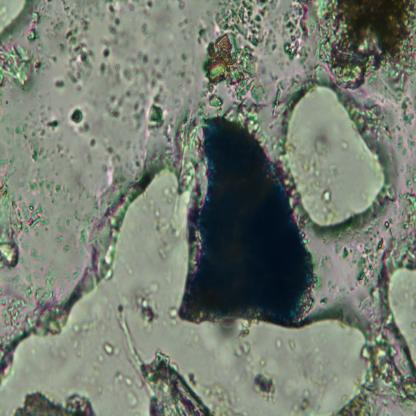Air bubble: (279, 82, 398, 235), (381, 256, 416, 370), (0, 0, 33, 35)
Background material: (176, 0, 289, 113), (315, 0, 416, 85), (359, 290, 407, 406), (0, 109, 65, 189), (119, 55, 176, 138), (140, 351, 211, 416), (0, 284, 63, 348), (55, 0, 100, 87), (0, 180, 38, 278), (92, 0, 129, 77), (14, 384, 99, 416), (343, 91, 391, 147), (393, 159, 416, 270), (284, 0, 318, 70), (355, 217, 392, 281), (2, 38, 44, 94), (117, 301, 148, 372), (304, 135, 335, 206), (198, 377, 246, 416), (151, 211, 188, 257), (56, 200, 88, 245), (284, 379, 321, 416), (70, 309, 100, 354), (96, 144, 135, 175), (63, 100, 93, 137), (136, 283, 158, 331), (250, 371, 282, 403), (233, 321, 258, 361), (115, 370, 136, 407), (397, 96, 416, 130), (138, 0, 154, 36), (339, 401, 375, 416), (330, 241, 354, 263), (326, 278, 349, 297), (106, 90, 117, 118), (99, 340, 117, 357), (395, 135, 409, 156), (167, 305, 179, 328), (405, 134, 416, 152), (87, 136, 101, 148), (257, 357, 269, 368), (274, 335, 282, 350), (314, 272, 321, 288), (289, 336, 296, 351), (320, 296, 328, 308)
Fragment: (180, 114, 313, 332)
